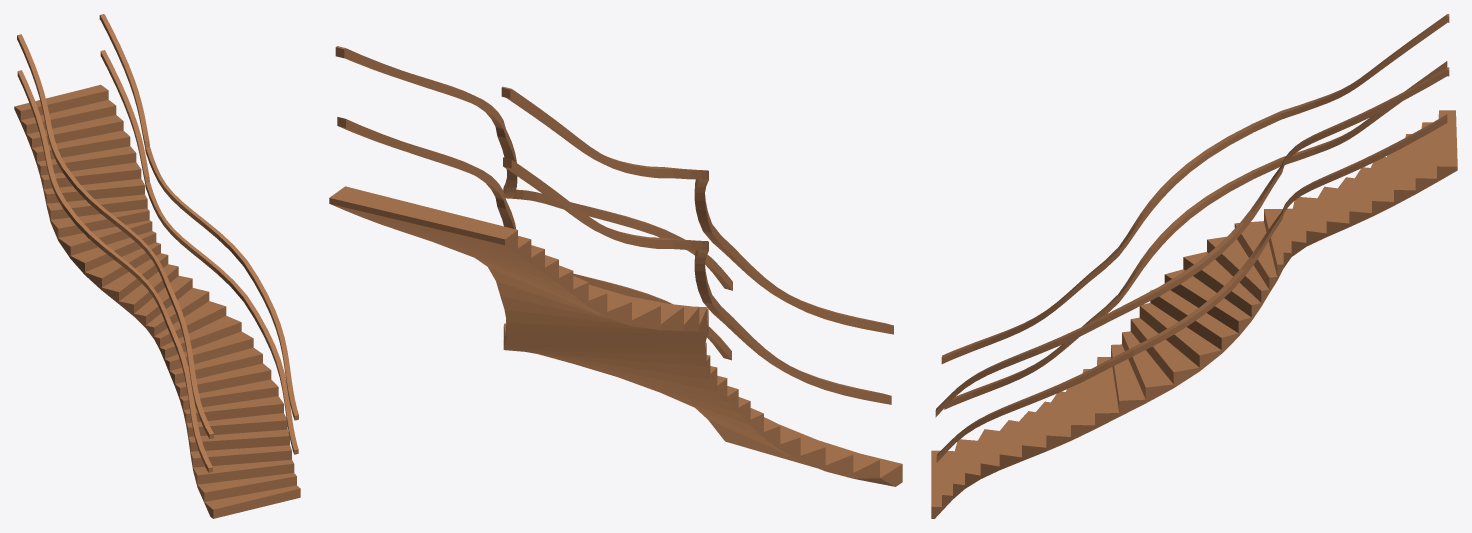
Rendered from lvl1_P_switch2_platform1.1.glb.
3 renders of one model, left to right at view 1: azimuth 30°, elevation 25°; view 2: azimuth 150°, elevation 25°; view 3: azimuth 270°, elevation 25°, orthographic. The views are drawn at different scales.
Visible parts, largest first — view 1: lvl1_P_switch2_slope; view 2: lvl1_P_switch2_slope; view 3: lvl1_P_switch2_slope.
Part boxes in pixels (x1,y1,x2,y2): lvl1_P_switch2_slope: (14,14,300,518); lvl1_P_switch2_slope: (329,46,902,486); lvl1_P_switch2_slope: (931,14,1457,518).
Size of the model in its own units: 5.95 by 14.9 by 15.85.
1 material, 1 textured.
